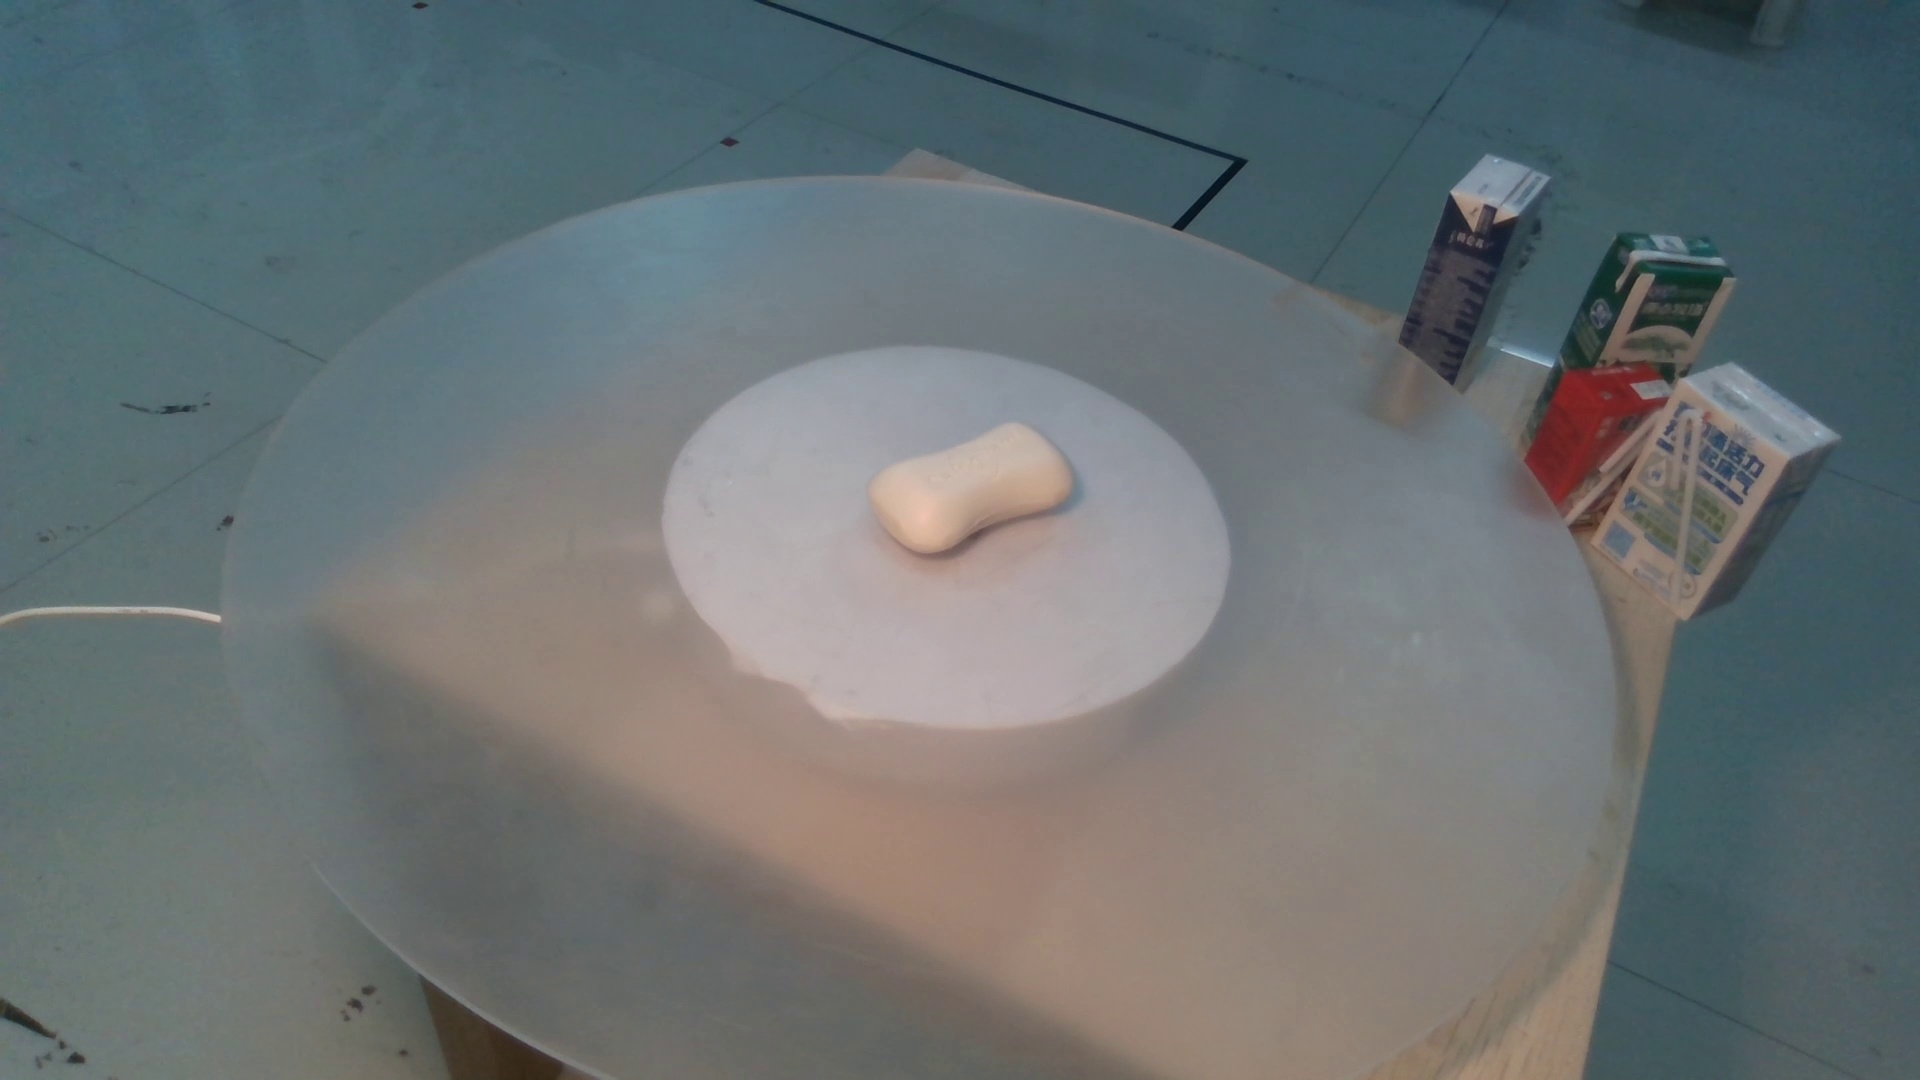CA003_1: (825, 392, 1124, 599)
